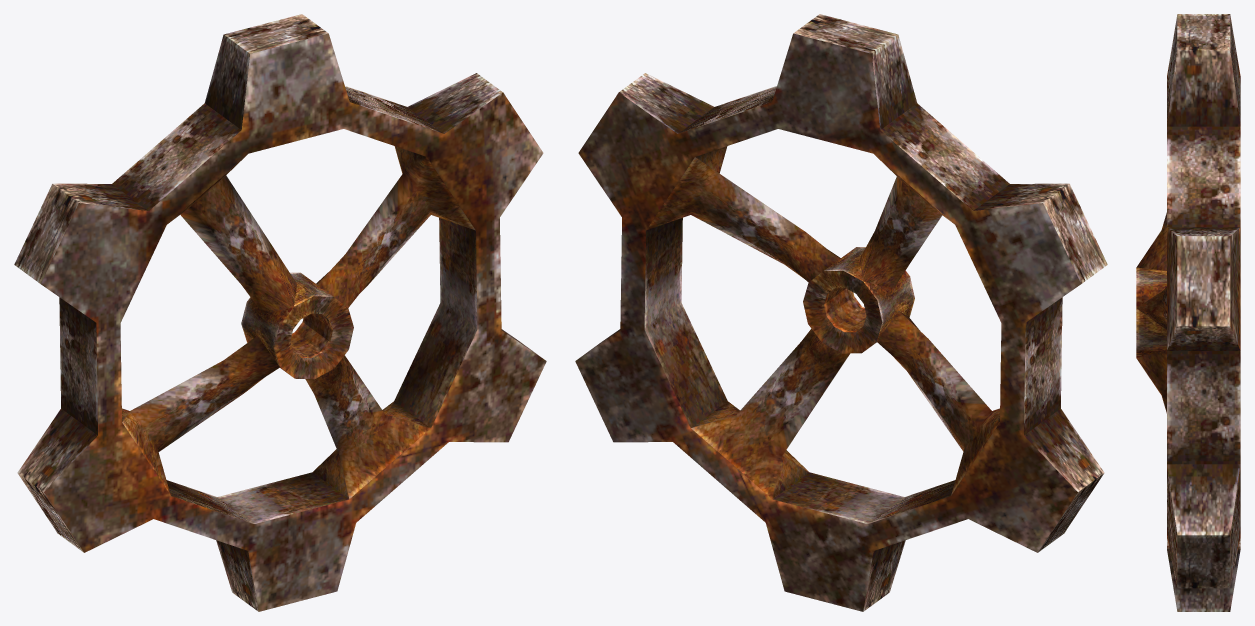
The model's file is elevator_cogwheel01.dae.
3 renders of one model, left to right at view 1: azimuth 30°, elevation 25°; view 2: azimuth 150°, elevation 25°; view 3: azimuth 270°, elevation 25°, orthographic.
Visible parts, largest first — view 1: elevator_cogwheel01; view 2: elevator_cogwheel01; view 3: elevator_cogwheel01.
Boxes of the visible parts, bbox=[...] form: elevator_cogwheel01: bbox=[14, 14, 546, 611]; elevator_cogwheel01: bbox=[575, 14, 1107, 611]; elevator_cogwheel01: bbox=[1136, 14, 1240, 611].
Size of the model in its own units: 1.14 by 1.21 by 0.2051.
